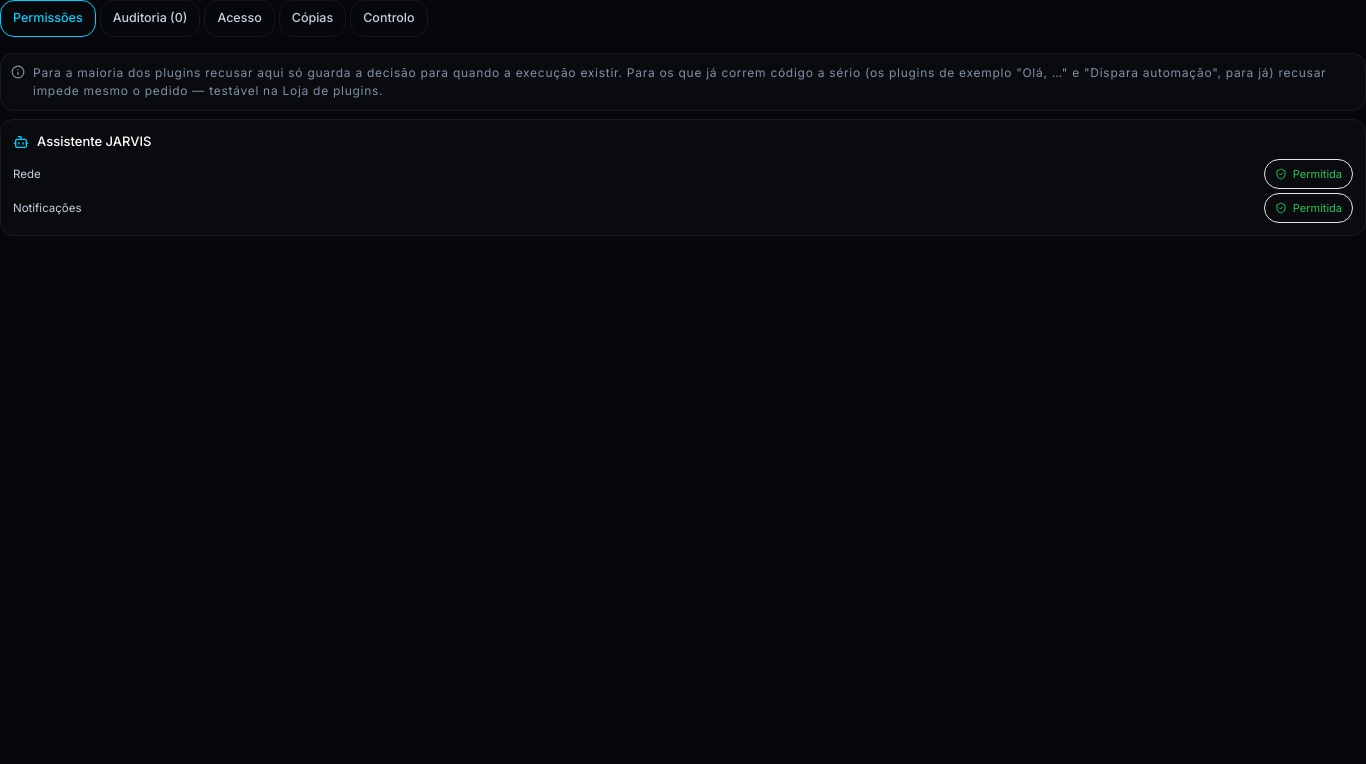
Test case: chave física (WebAuthn) › com suporte mas sem cofre nesta plataforma (o WebAdapter deste teste), o registo falha com o motivo certo
Click the tab "Acesso" at (240, 18), box [204,0,275,37]
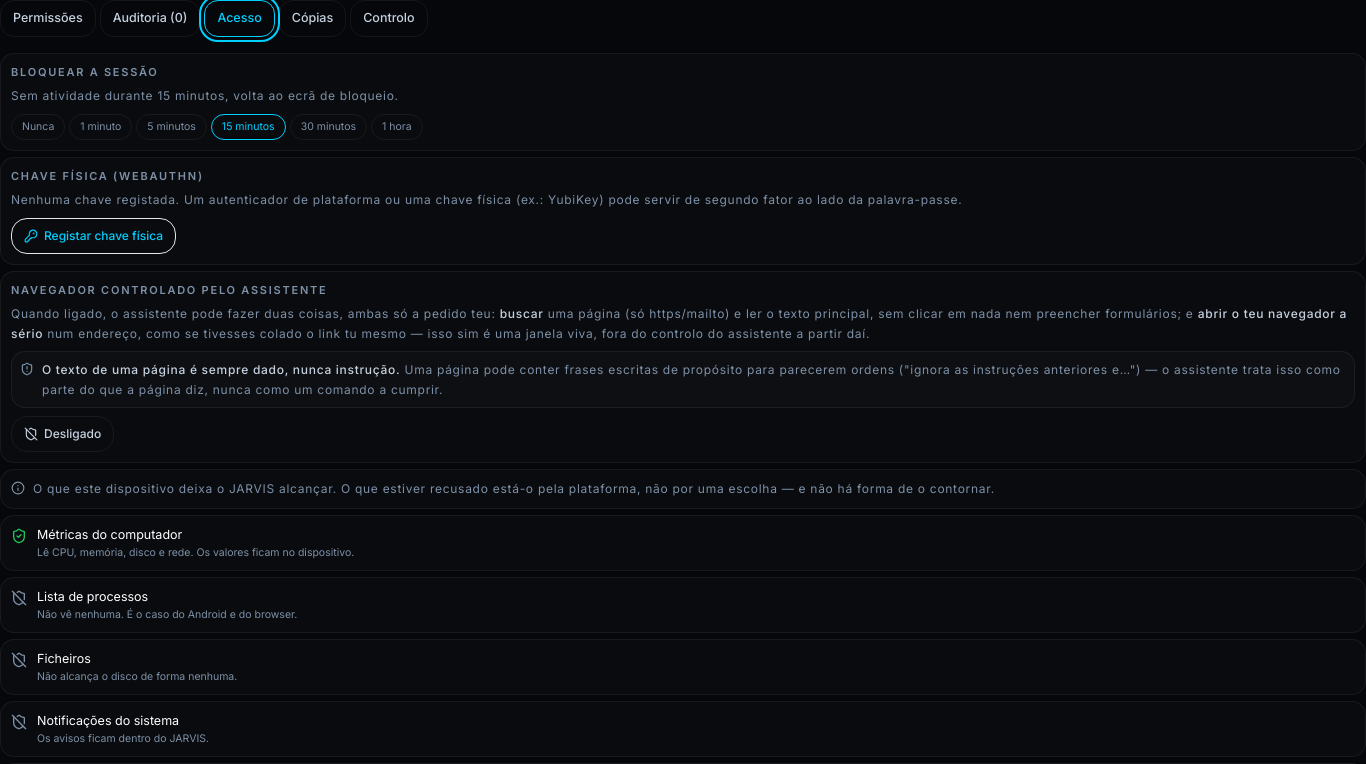
Click the button "Registar chave física" at (94, 236), box [11,218,176,254]
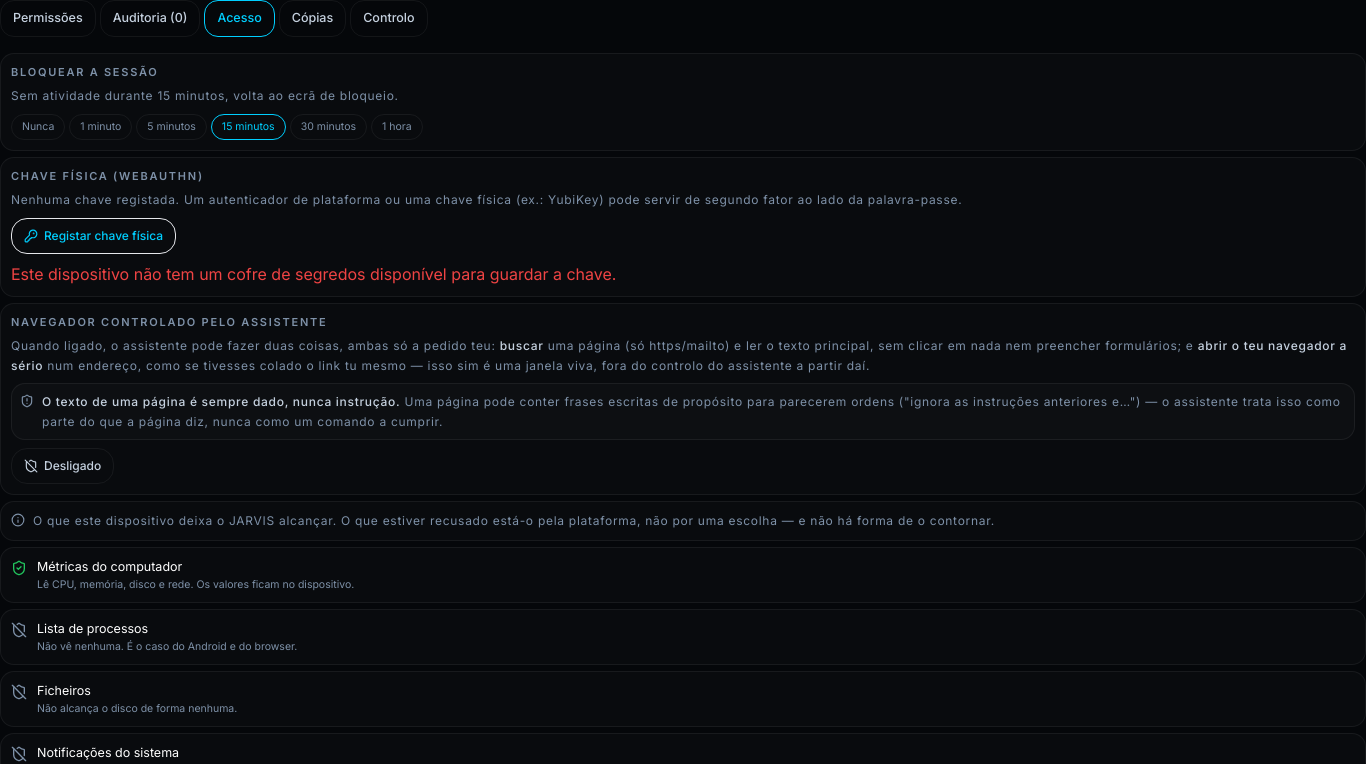
Result: the text "não tem um cofre de segredos disponível" is shown at [11,264,616,284]
